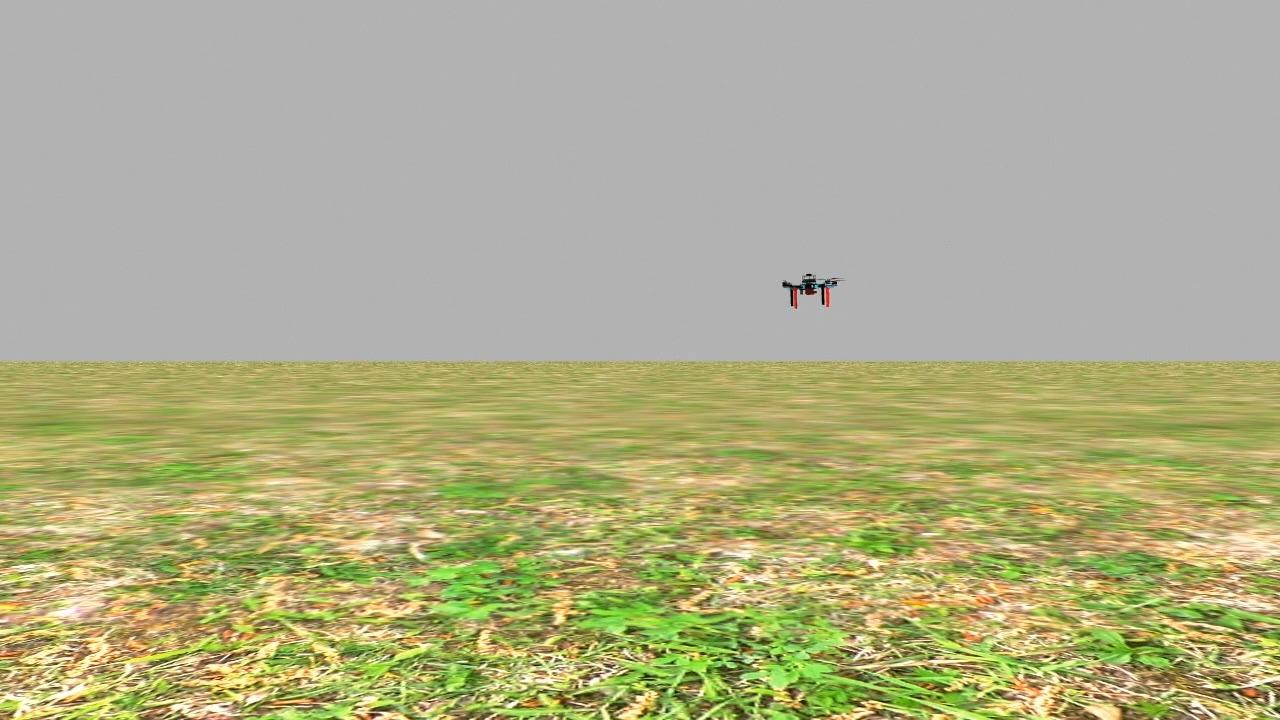UAV: (771, 251, 845, 326)
